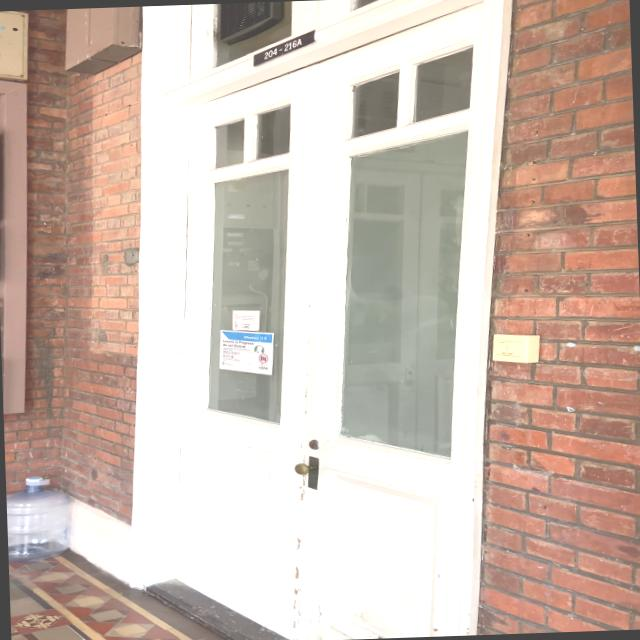room204: (244, 24, 316, 72)
